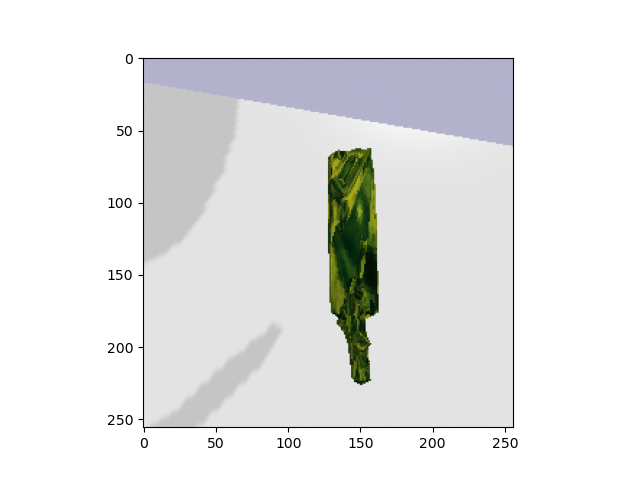v249b387_108: (315, 142, 405, 392)
